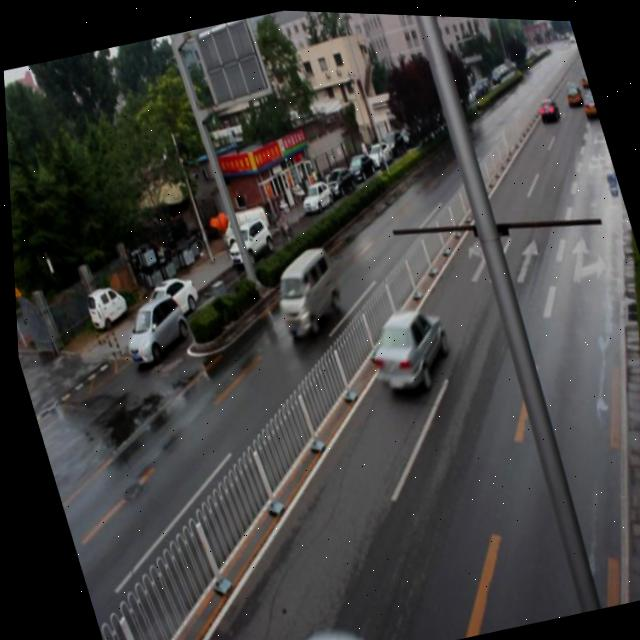car: (358, 301, 456, 401)
truck: (262, 241, 346, 341)
